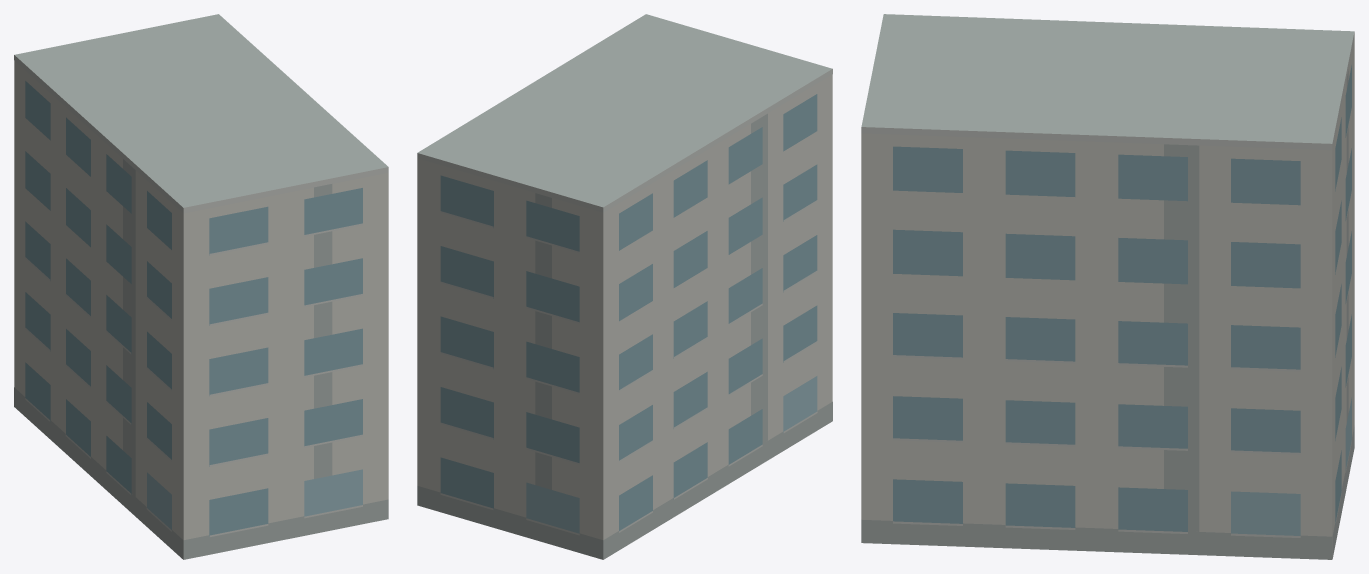
Rendered from survey-upis-32769725.glb.
3 renders of one model, left to right at view 1: azimuth 30°, elevation 25°; view 2: azimuth 150°, elevation 25°; view 3: azimuth 270°, elevation 25°, orthographic. The views are drawn at different scales.
Visible parts, largest first — view 1: survey-upis-32769725.tmp; view 2: survey-upis-32769725.tmp; view 3: survey-upis-32769725.tmp.
Part boxes in pixels (x1,y1,x2,y2): survey-upis-32769725.tmp: (14,14,388,559); survey-upis-32769725.tmp: (417,14,832,559); survey-upis-32769725.tmp: (861,14,1354,559).
Size of the model in its own units: 10.48 by 15.65 by 16.82.
